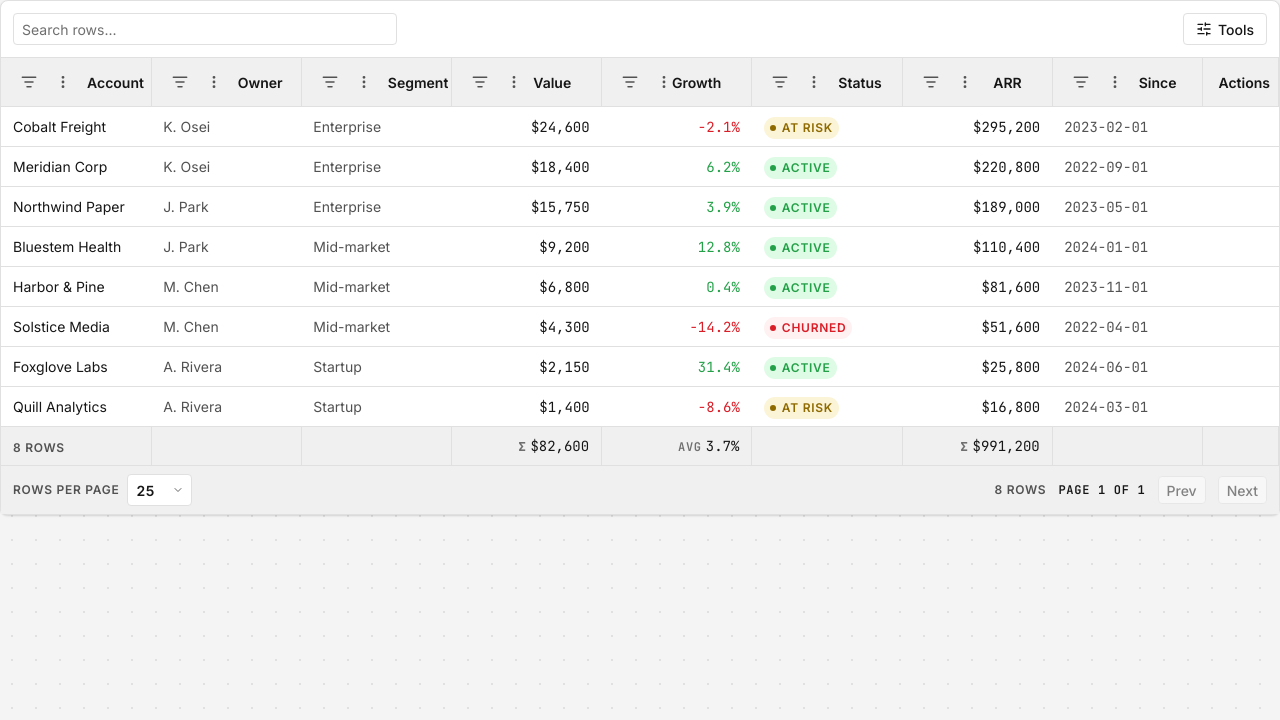
Test case: multi-sort header interaction › shows 1-based sort priority badges when multiple columns are sorted
Click the column heading "Segment": [376, 82] box [301,58,452,106]
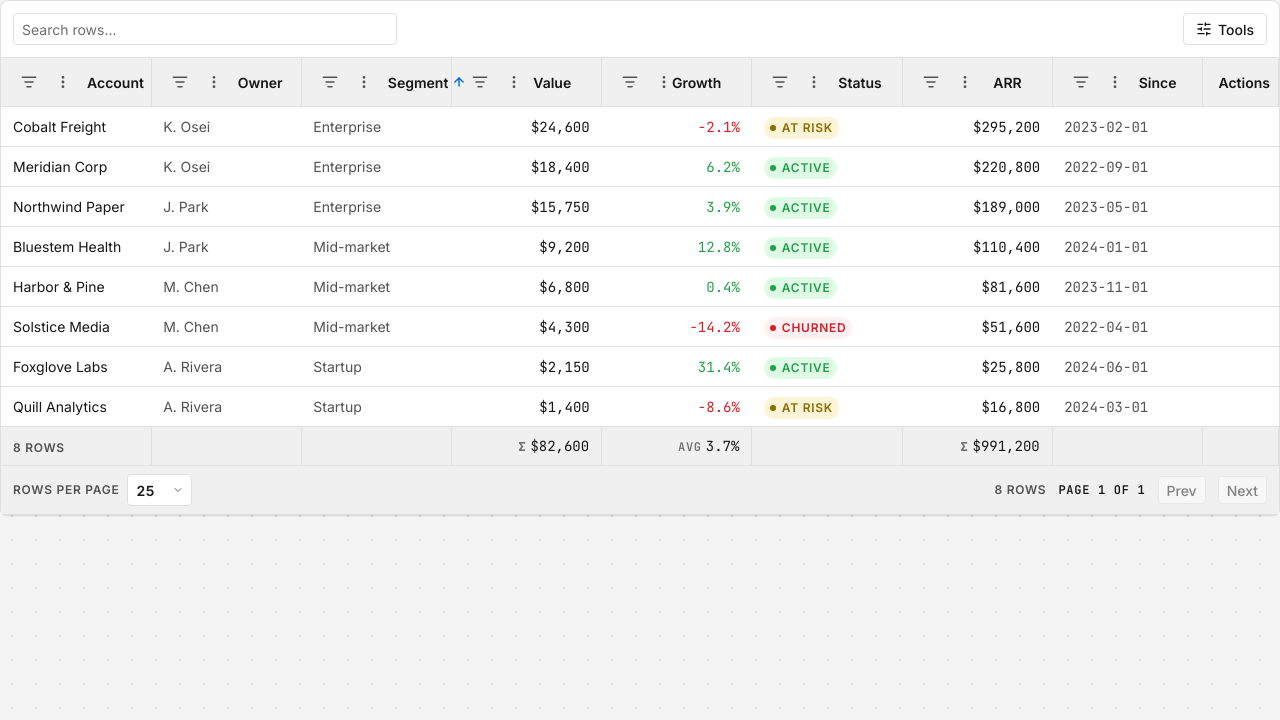
Click the column heading "Value": [527, 82] box [452,58,602,106]
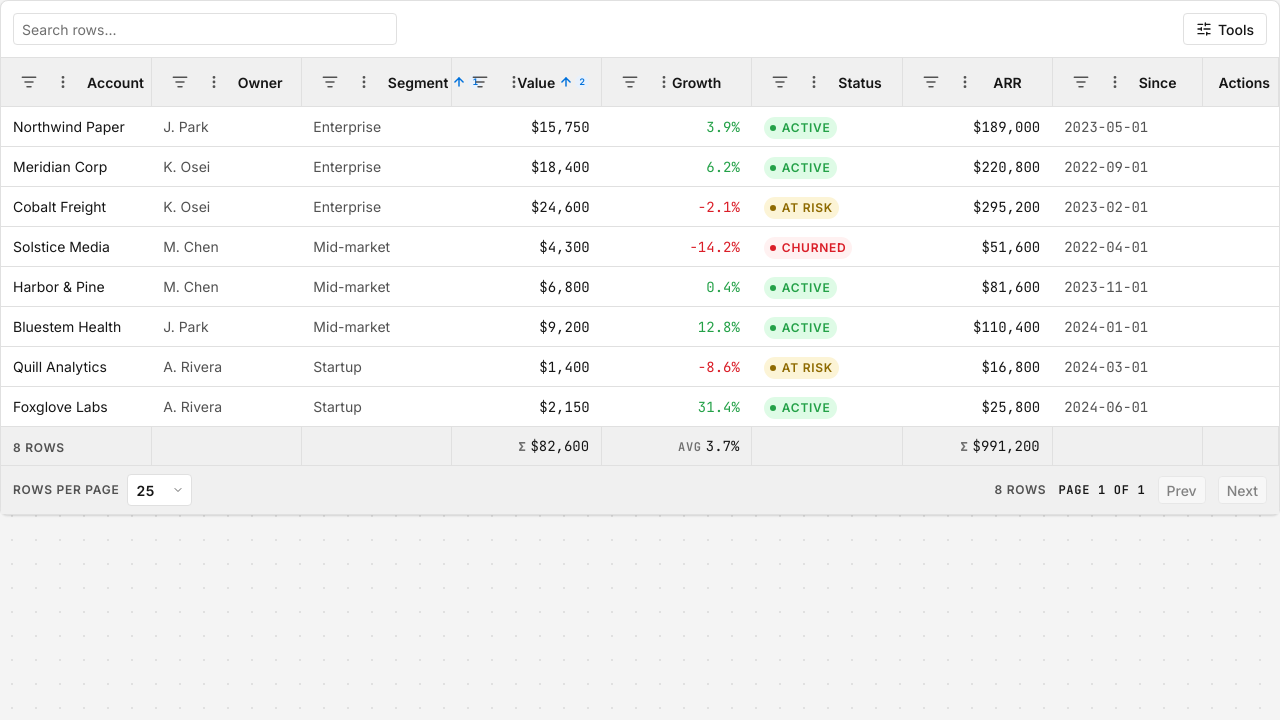
Now the text with test id "sort-priority" reads "1", box [472,76,478,87]
Now the text with test id "sort-priority" reads "2", box [579,76,585,87]
